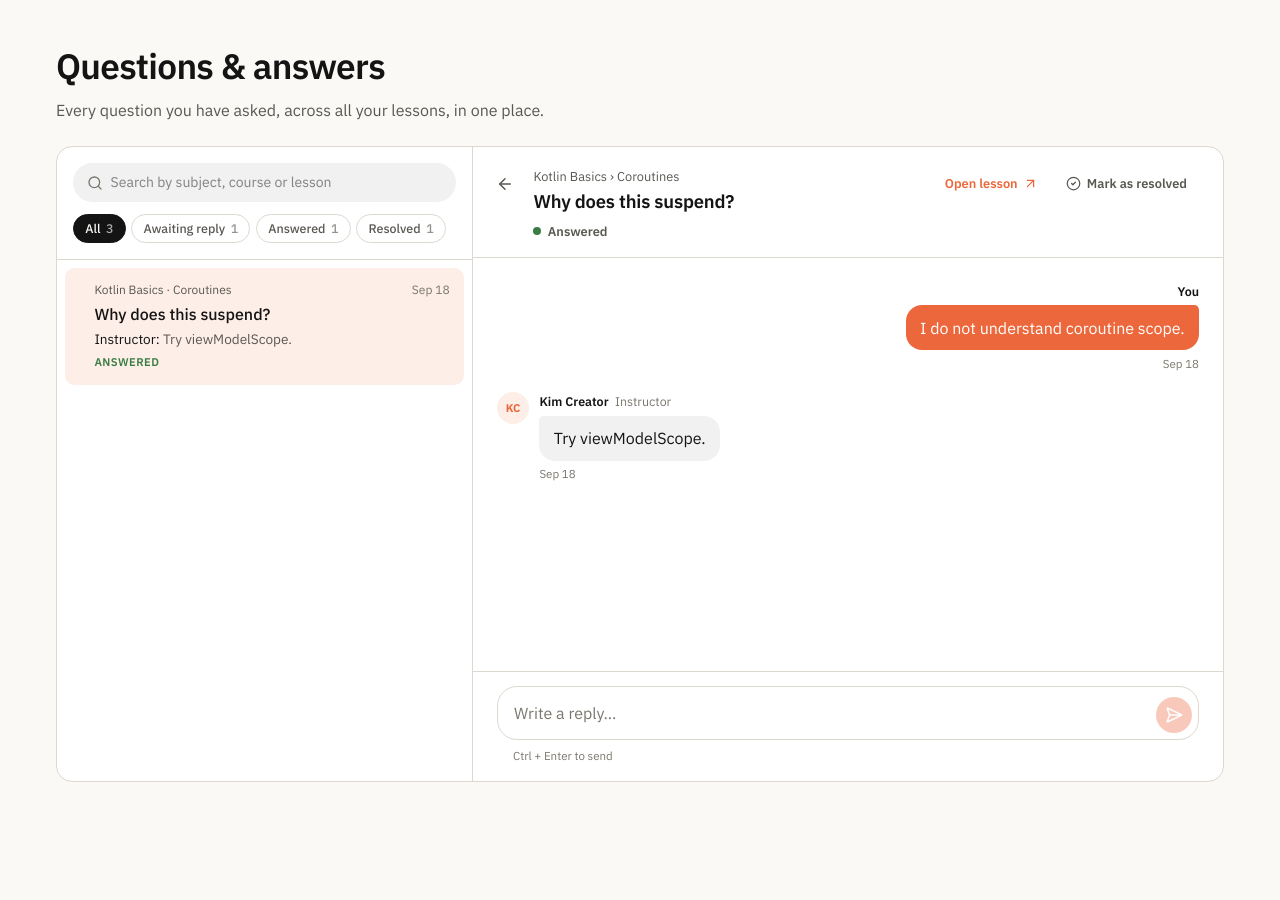
it: QuestionsView › marks a conversation resolved and offers to reopen it
What coordinates should you click on to do the following:
click the button "Mark as resolved"
I would click on:
 (1127, 183)
Its box is [1054,167,1199,199].
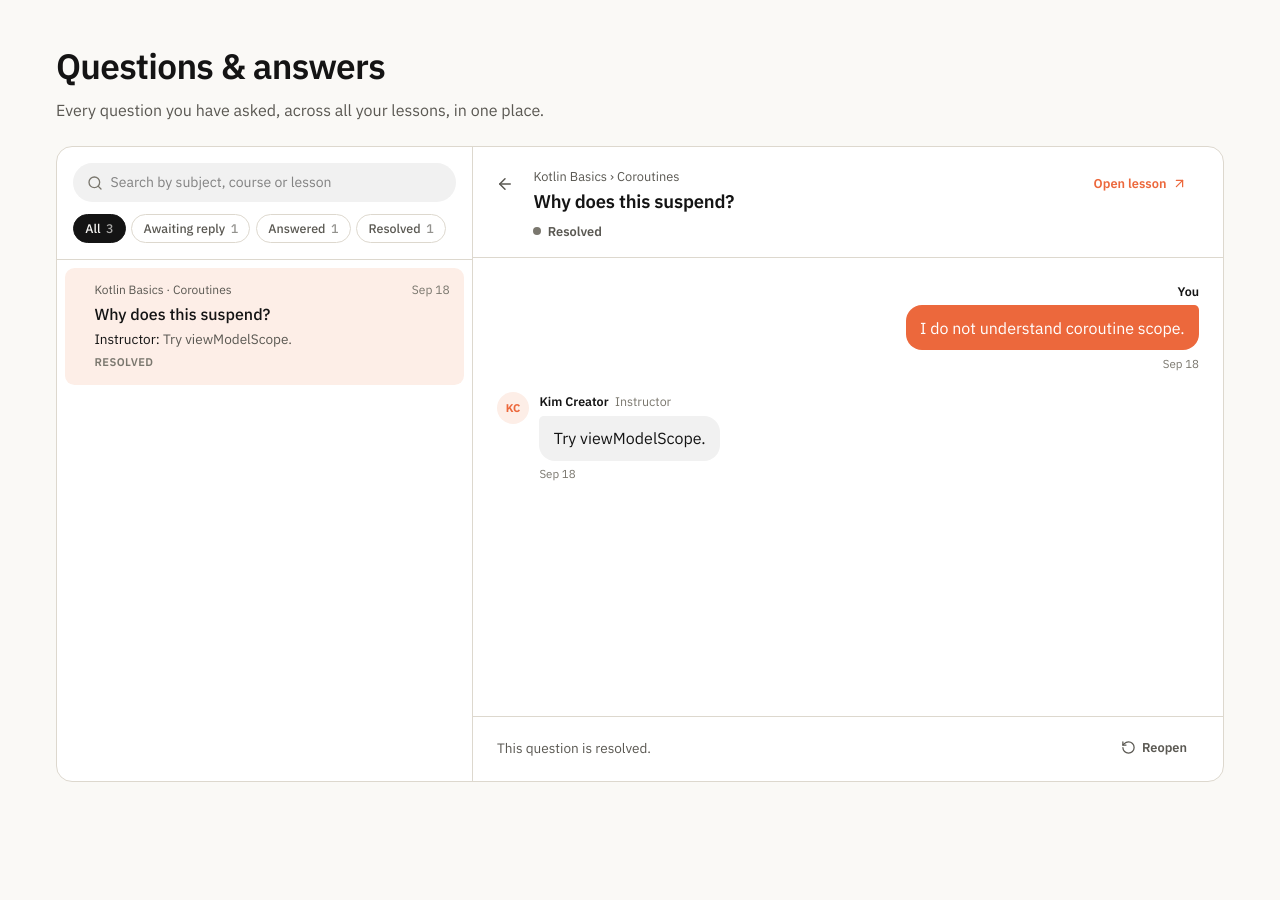
Expected: the field labelled "Your reply" is not shown
Now the button "Reopen" is shown, box [1109,732,1199,764]
